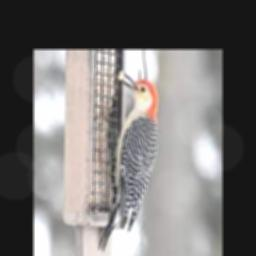Woodpecker: (98, 71, 157, 251)
